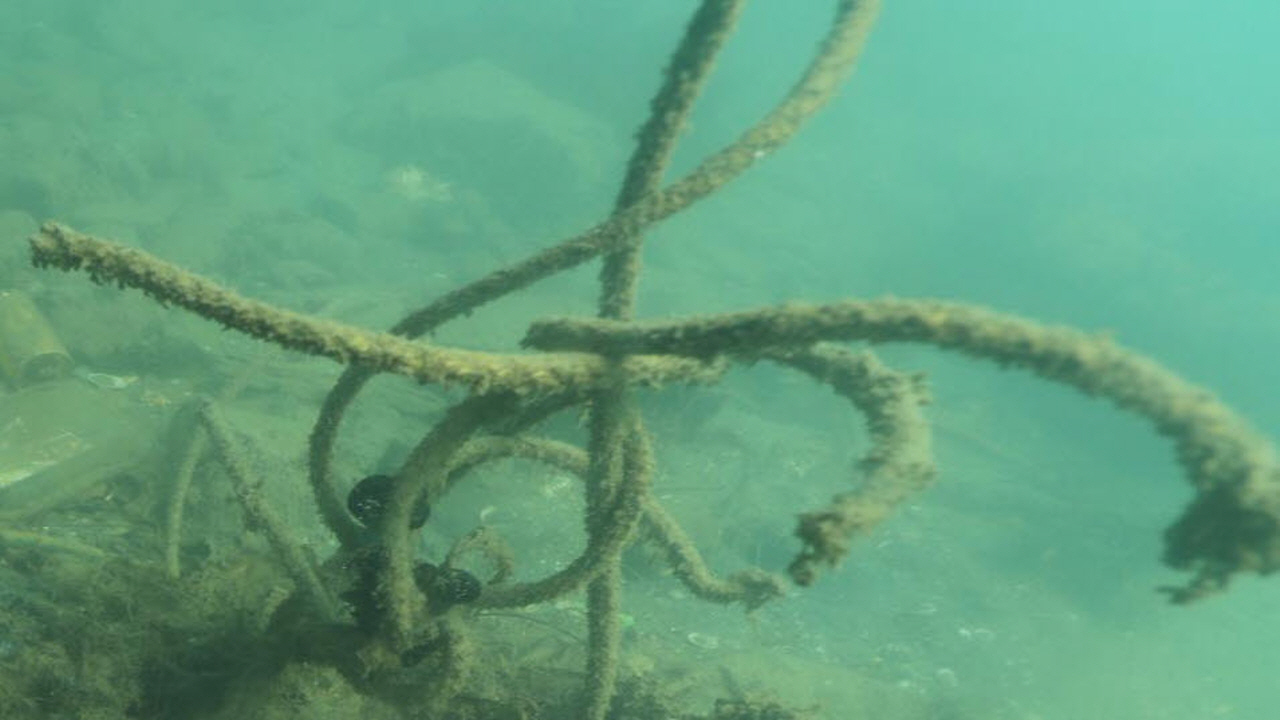bundle of ropes: (26, 0, 1280, 720)
